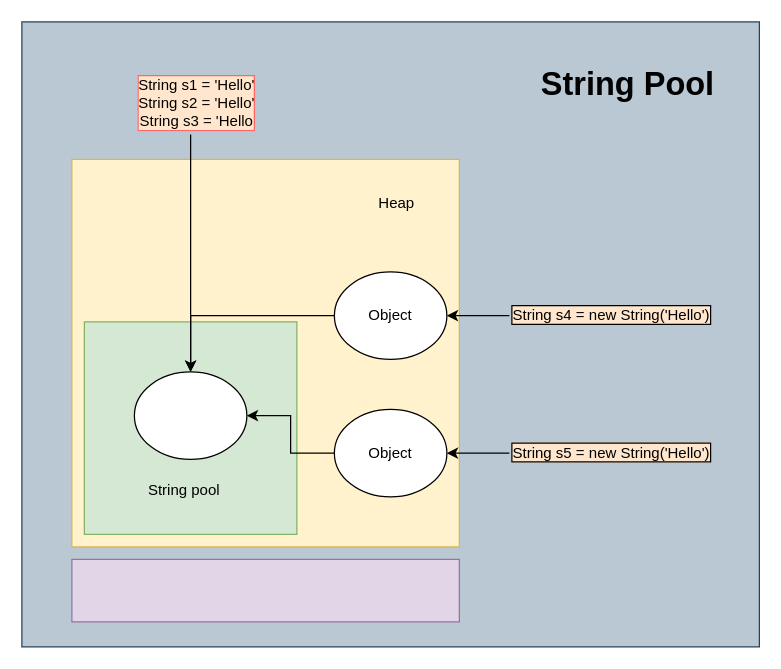
Some shapes in this 781 by 669 pixel diagram are drawn without their labels. The shapes that lost their labels are listed below. From the top down, each one's centre as x and y in pixels, then its label:
At point (190, 415): "Value: 'Hello'".
At point (265, 590): "s1 == s2 // true s4 == s5 // false".
